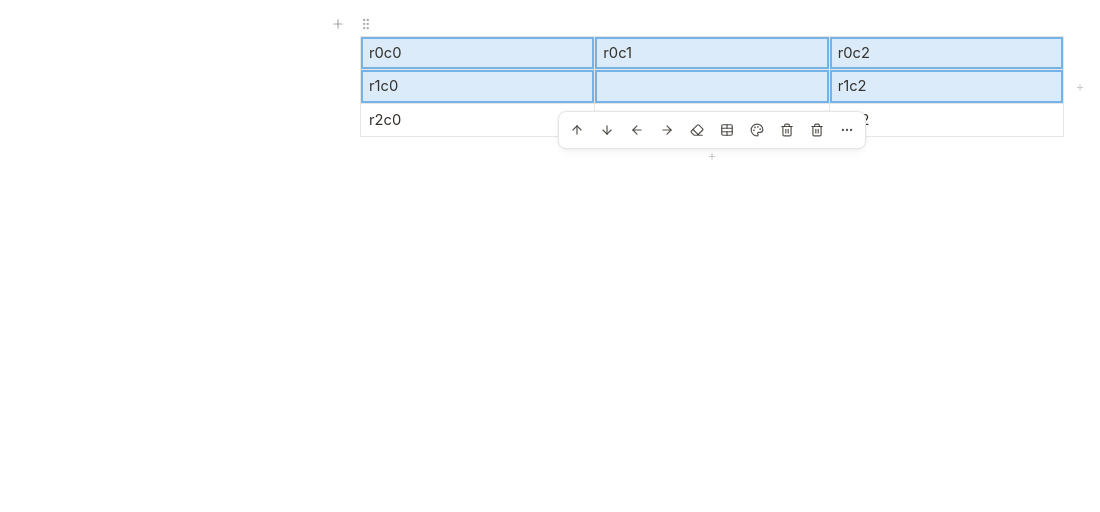
Test: range-aware cell context menu (TBL-6) › a selected ragged-row pad cell preserves the range and opens its range menu
This screenshot has width=1100, height=512.
Press the mouse on the 5th cell at x=712, y=86, box [595,70,829,103]
Right-click the 5th cell.
right_click(712, 86)  # box [595,70,829,103]
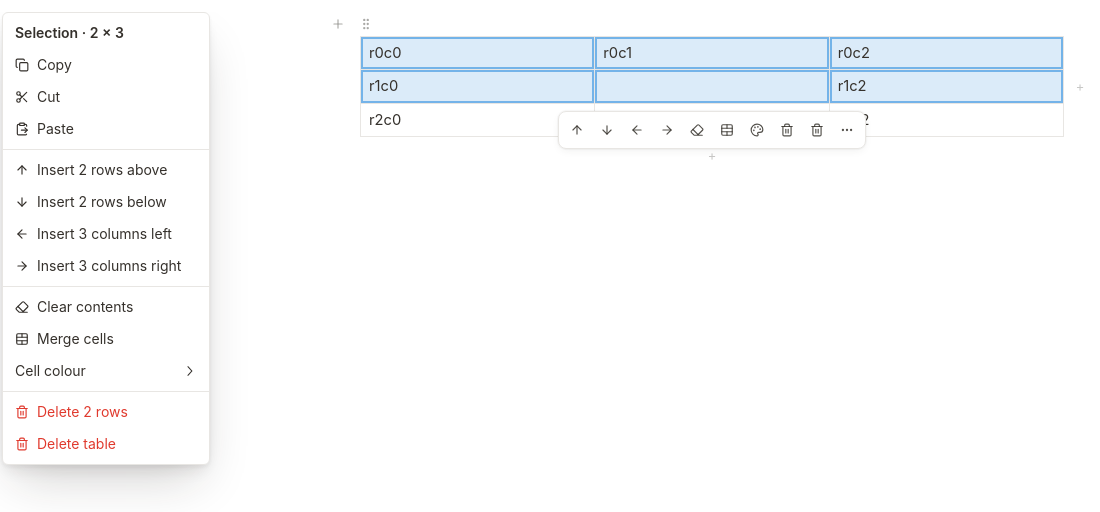
Expected: the text "Selection · 2 × 3" is shown, [15,24,124,41]
Expected: the menu item "Clear contents" is shown, [15,298,133,315]
Expected: the menu item "Cell colour" is shown, [15,362,197,379]
